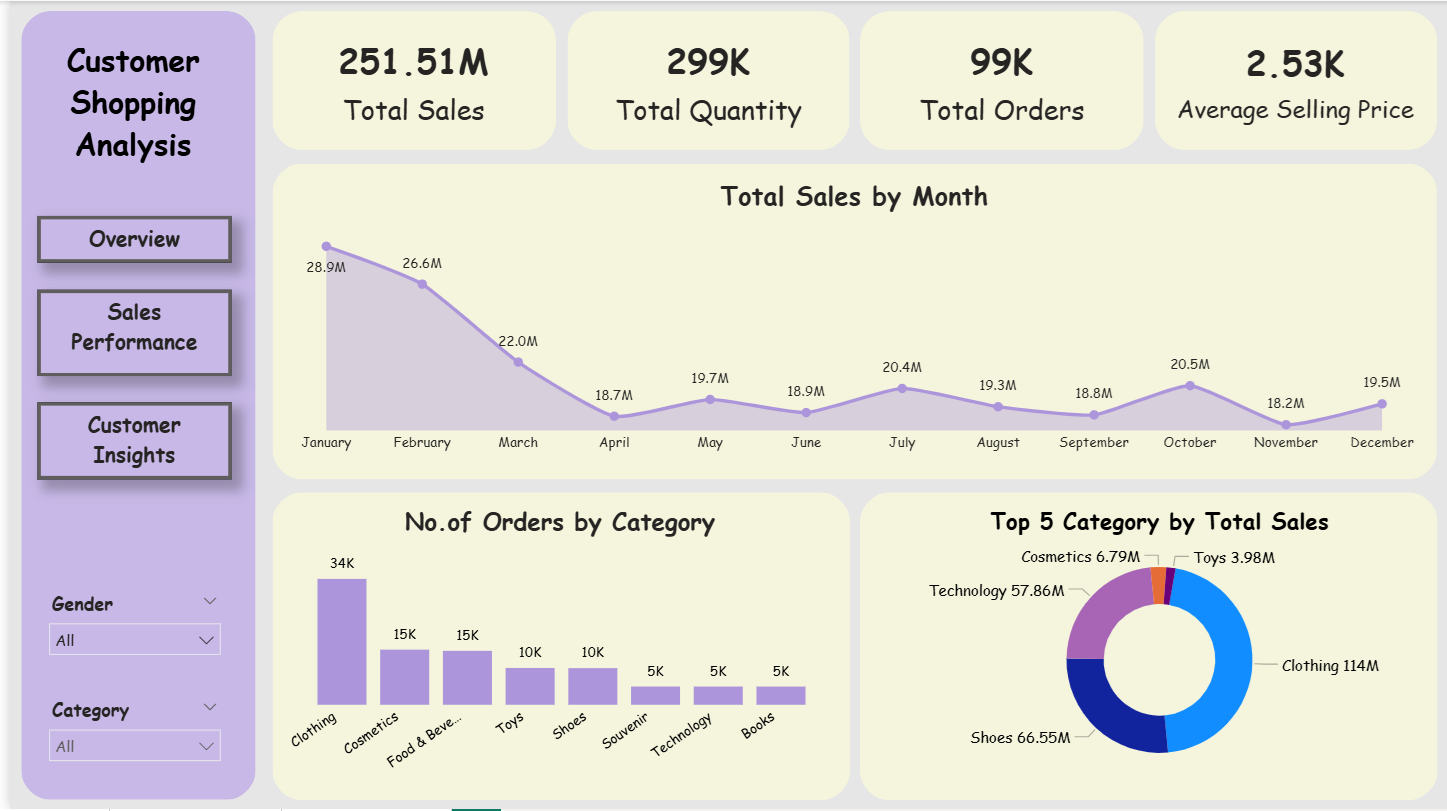

What the dashboard file says about the page in this screenshot:
{"tool":"powerbi","page":{"name":"Overview","canvas":[1280,720],"ordinal":0},"visuals":[{"type":"shape","box":[10,8.8,208.8,702.5],"z":0},{"type":"shape","box":[233.8,8.8,252.5,123.8],"z":1000},{"type":"shape","box":[496.2,8.8,251.2,123.8],"z":2000},{"type":"shape","box":[757.5,8.8,252.5,123.8],"z":3000},{"type":"shape","box":[1020,8.8,251.2,123.8],"z":4000},{"type":"shape","box":[234.3,144.3,1037.1,281.4],"z":5000},{"type":"shape","box":[234.3,437.1,514.3,274.3],"z":6000},{"type":"textbox","box":[23.8,27.5,172.5,140],"z":7000},{"type":"card","fields":{"Values":["Measures .Total Sales"]},"box":[242.5,17.5,233.8,105],"z":8000},{"type":"card","fields":{"Values":["Measures .Total Quantity"]},"box":[506.2,17.5,231.2,105],"z":9000},{"type":"card","fields":{"Values":["Measures .Total Orders"]},"box":[766.2,17.5,235,105],"z":10000},{"type":"card","fields":{"Values":["Measures .Average Order Value"]},"box":[1028.8,17.5,232.5,105],"z":11000},{"type":"areaChart","title":"Total Sales by Month","fields":{"Category":["Date Table.Month Name"],"Y":["Measures .Total Sales"]},"box":[242.9,157.1,1018.6,255.7],"z":12000},{"type":"shape","box":[757.1,437.1,514.3,274.3],"z":13000},{"type":"columnChart","title":"No.of Orders by Category","fields":{"Y":["Measures .Total Orders"],"Category":["customer_shopping_data.category"]},"box":[242.9,447.1,494.3,251.4],"z":14000},{"type":"donutChart","title":"Top 5 Category by Total Sales","fields":{"Category":["customer_shopping_data.category"],"Y":["Measures .Total Sales"]},"box":[775.7,447.6,495.8,250.9],"z":15000},{"type":"textbox","box":[24.3,191.4,172.9,41.4],"z":16000},{"type":"textbox","box":[24.3,357.1,172.9,68.6],"z":17000},{"type":"actionButton","box":[24.3,191.4,172.9,41.4],"z":18000},{"type":"textbox","box":[24.3,257.1,172.9,77.1],"z":19000},{"type":"actionButton","box":[24.3,257.1,172.9,77.1],"z":20000},{"type":"actionButton","box":[24.3,357.1,172.9,68.6],"z":21000},{"type":"slicer","fields":{"Values":["customer_shopping_data.gender"]},"box":[24.3,520,172.9,77.1],"z":24000},{"type":"slicer","fields":{"Values":["customer_shopping_data.category"]},"box":[24.3,614.3,172.9,84.3],"z":25000}]}

Visuals, with their boxes in screenshot pixels (x1, y1, x2, y2), scaled from the page's 1280x720 canvas onto the 1447x811 screenshot:
shape: <bbox>11, 10, 247, 801</bbox>
shape: <bbox>264, 10, 550, 149</bbox>
shape: <bbox>561, 10, 845, 149</bbox>
shape: <bbox>856, 10, 1142, 149</bbox>
shape: <bbox>1153, 10, 1437, 149</bbox>
shape: <bbox>265, 163, 1437, 480</bbox>
shape: <bbox>265, 492, 846, 801</bbox>
textbox: <bbox>27, 31, 222, 189</bbox>
card - Measures .Total Sales: <bbox>274, 20, 538, 138</bbox>
card - Measures .Total Quantity: <bbox>572, 20, 834, 138</bbox>
card - Measures .Total Orders: <bbox>866, 20, 1132, 138</bbox>
card - Measures .Average Order Value: <bbox>1163, 20, 1426, 138</bbox>
"Total Sales by Month" areaChart: <bbox>275, 177, 1426, 465</bbox>
shape: <bbox>856, 492, 1437, 801</bbox>
"No.of Orders by Category" columnChart: <bbox>275, 504, 833, 787</bbox>
"Top 5 Category by Total Sales" donutChart: <bbox>877, 504, 1437, 787</bbox>
textbox: <bbox>27, 216, 223, 262</bbox>
textbox: <bbox>27, 402, 223, 480</bbox>
actionButton: <bbox>27, 216, 223, 262</bbox>
textbox: <bbox>27, 290, 223, 376</bbox>
actionButton: <bbox>27, 290, 223, 376</bbox>
actionButton: <bbox>27, 402, 223, 480</bbox>
slicer - customer_shopping_data.gender: <bbox>27, 586, 223, 673</bbox>
slicer - customer_shopping_data.category: <bbox>27, 692, 223, 787</bbox>
